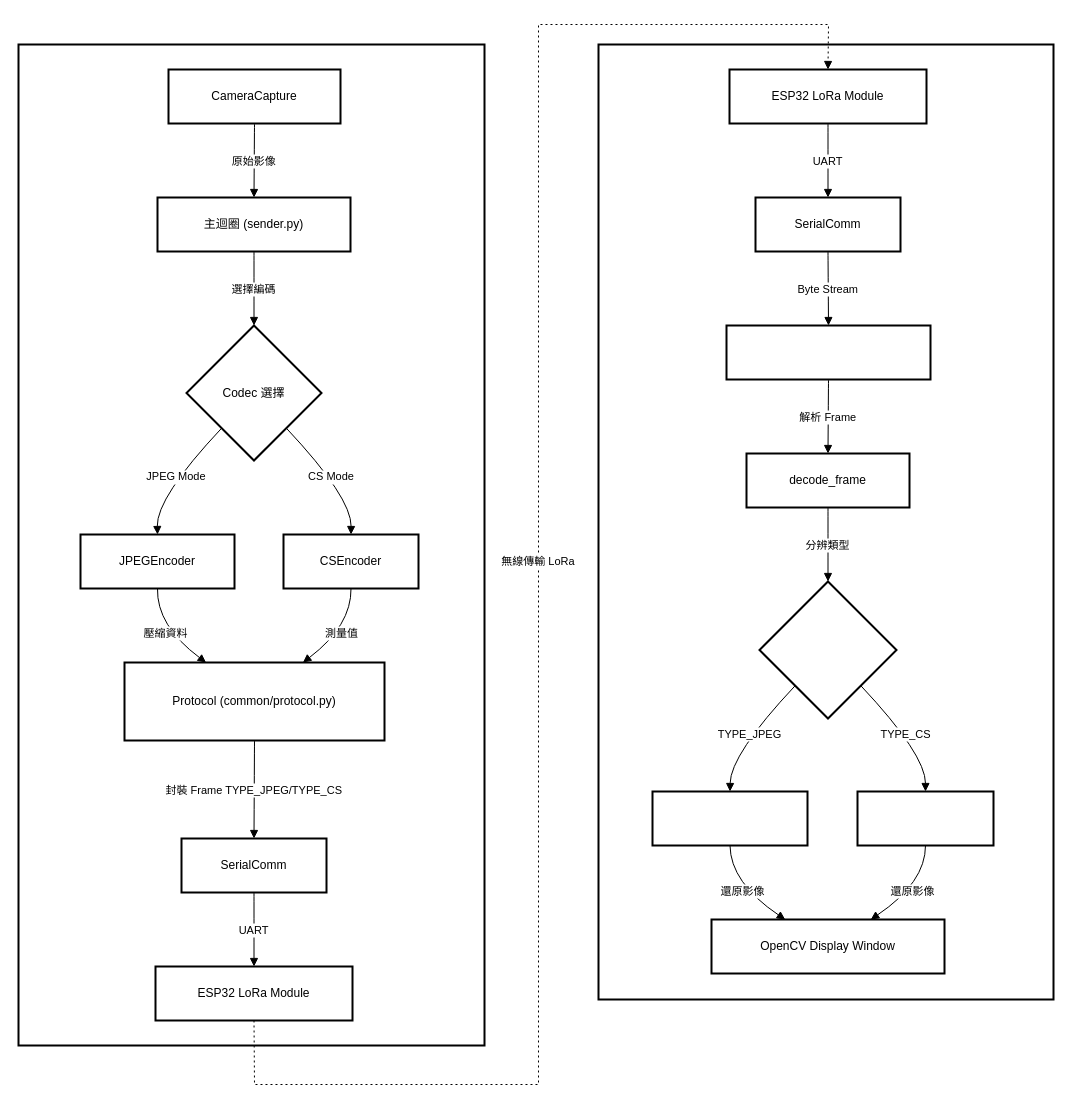
Image size: 1071x1110. Some labels were removed from this diagram. The shapes that lost their labels are listed below. From the top down, each one's box as (x1, y1, x2, y2) in pixels, then its label:
(725, 324, 931, 380): 主迴圈 (receiver.py)
(597, 43, 1054, 1000): PC (接收端)
(17, 43, 485, 1046): Raspberry Pi (發送端)
(758, 580, 897, 719): Frame Type
(651, 790, 808, 846): JPEGDecoder
(856, 790, 994, 846): CSDecoder
